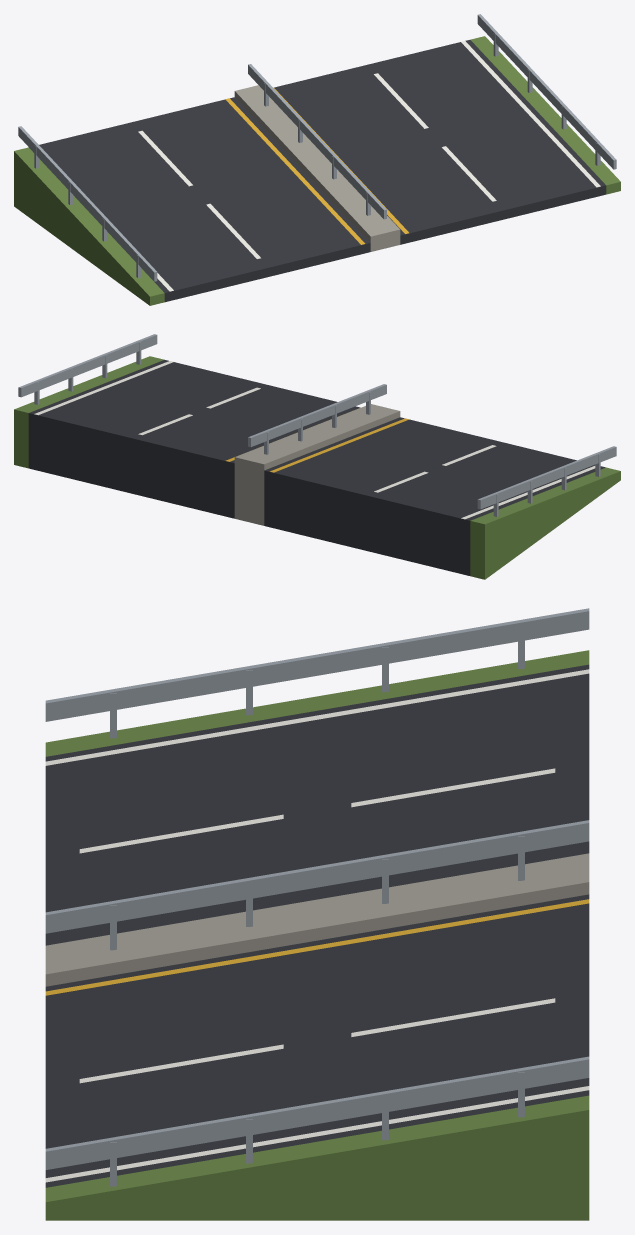
The model's file is Highway_4Lane_Divided_Slope_Down_8m.glb.
3 views of the same model, one above another, from view 1: azimuth 30°, elevation 25°; view 2: azimuth 150°, elevation 25°; view 3: azimuth 270°, elevation 25° (orthographic). The views are drawn at different scales.
Parts seen in each view (by area): view 1: Highway_4Lane_Divided_Slope_Down_8m_Asphalt, Highway_4Lane_Divided_Slope_Down_8m_Grass-edge, Highway_4Lane_Divided_Slope_Down_8m_Metal, Highway_4Lane_Divided_Slope_Down_8m_Concrete, Highway_4Lane_Divided_Slope_Down_8m_PaintWhite, Highway_4Lane_Divided_Slope_Down_8m_PaintYellow; view 2: Highway_4Lane_Divided_Slope_Down_8m_Asphalt, Highway_4Lane_Divided_Slope_Down_8m_Grass-edge, Highway_4Lane_Divided_Slope_Down_8m_Metal, Highway_4Lane_Divided_Slope_Down_8m_Concrete, Highway_4Lane_Divided_Slope_Down_8m_PaintWhite, Highway_4Lane_Divided_Slope_Down_8m_PaintYellow; view 3: Highway_4Lane_Divided_Slope_Down_8m_Asphalt, Highway_4Lane_Divided_Slope_Down_8m_Grass-edge, Highway_4Lane_Divided_Slope_Down_8m_Metal, Highway_4Lane_Divided_Slope_Down_8m_Concrete, Highway_4Lane_Divided_Slope_Down_8m_PaintWhite, Highway_4Lane_Divided_Slope_Down_8m_PaintYellow.
Boxes of the visible parts, left/top/right/bottom form: Highway_4Lane_Divided_Slope_Down_8m_Asphalt: left=29, top=40, right=606, bottom=302; Highway_4Lane_Divided_Slope_Down_8m_Grass-edge: left=14, top=36, right=620, bottom=305; Highway_4Lane_Divided_Slope_Down_8m_Metal: left=18, top=14, right=616, bottom=281; Highway_4Lane_Divided_Slope_Down_8m_Concrete: left=234, top=85, right=400, bottom=251; Highway_4Lane_Divided_Slope_Down_8m_PaintWhite: left=138, top=41, right=600, bottom=291; Highway_4Lane_Divided_Slope_Down_8m_PaintYellow: left=225, top=87, right=409, bottom=244; Highway_4Lane_Divided_Slope_Down_8m_Asphalt: left=28, top=359, right=605, bottom=575; Highway_4Lane_Divided_Slope_Down_8m_Grass-edge: left=14, top=356, right=620, bottom=579; Highway_4Lane_Divided_Slope_Down_8m_Metal: left=18, top=334, right=616, bottom=516; Highway_4Lane_Divided_Slope_Down_8m_Concrete: left=234, top=404, right=400, bottom=525; Highway_4Lane_Divided_Slope_Down_8m_PaintWhite: left=34, top=361, right=595, bottom=519; Highway_4Lane_Divided_Slope_Down_8m_PaintYellow: left=225, top=418, right=409, bottom=472; Highway_4Lane_Divided_Slope_Down_8m_Asphalt: left=45, top=664, right=589, bottom=1187; Highway_4Lane_Divided_Slope_Down_8m_Grass-edge: left=45, top=650, right=589, bottom=1220; Highway_4Lane_Divided_Slope_Down_8m_Metal: left=45, top=608, right=589, bottom=1186; Highway_4Lane_Divided_Slope_Down_8m_Concrete: left=45, top=853, right=589, bottom=986; Highway_4Lane_Divided_Slope_Down_8m_PaintWhite: left=45, top=669, right=589, bottom=1182; Highway_4Lane_Divided_Slope_Down_8m_PaintYellow: left=45, top=899, right=589, bottom=995.
Bounding box in the file's own units: 16 × 2.75 × 8.
